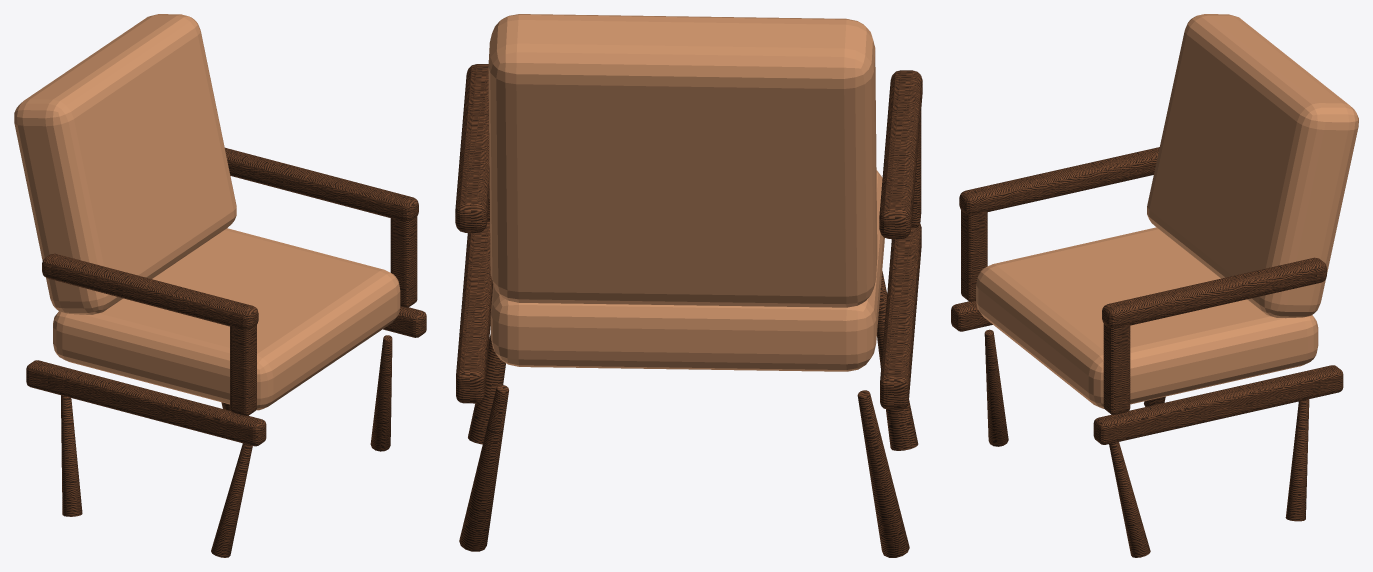
The model's file is interior-prop-armchair.glb.
3 renders of one model, left to right at view 1: azimuth 30°, elevation 25°; view 2: azimuth 150°, elevation 25°; view 3: azimuth 270°, elevation 25°, orthographic. The views are drawn at different scales.
Visible parts, largest first — view 1: armchair-back, armchair-seat, armchair-rail-l, armchair-arm-l, armchair-arm-r, armchair-post-l, armchair-post-r, armchair-leg-2, armchair-leg-0, armchair-leg-1, armchair-rail-r; view 2: armchair-back, armchair-seat, armchair-arm-l, armchair-rail-l, armchair-rail-r, armchair-arm-r, armchair-leg-2, armchair-leg-3, armchair-leg-0, armchair-leg-1, armchair-post-l; view 3: armchair-back, armchair-seat, armchair-rail-r, armchair-arm-r, armchair-arm-l, armchair-post-r, armchair-post-l, armchair-leg-3, armchair-leg-1, armchair-leg-0, armchair-rail-l.
Boxes of the visible parts, x1,y1,x2,y2 form: armchair-back: [14, 14, 236, 314]; armchair-seat: [53, 228, 400, 410]; armchair-rail-l: [26, 360, 266, 446]; armchair-arm-l: [42, 253, 258, 329]; armchair-arm-r: [225, 147, 418, 220]; armchair-post-l: [230, 325, 256, 416]; armchair-post-r: [390, 216, 417, 307]; armchair-leg-2: [61, 395, 82, 516]; armchair-leg-0: [211, 443, 252, 557]; armchair-leg-1: [370, 335, 392, 451]; armchair-rail-r: [383, 306, 426, 337]; armchair-back: [488, 14, 877, 307]; armchair-seat: [490, 170, 884, 371]; armchair-arm-l: [879, 70, 922, 239]; armchair-rail-l: [880, 223, 921, 409]; armchair-rail-r: [456, 222, 493, 403]; armchair-arm-r: [455, 64, 489, 232]; armchair-leg-2: [857, 390, 909, 557]; armchair-leg-3: [459, 385, 508, 551]; armchair-leg-0: [877, 271, 918, 450]; armchair-leg-1: [468, 334, 505, 444]; armchair-post-l: [911, 111, 921, 228]; armchair-back: [1147, 14, 1358, 318]; armchair-seat: [976, 227, 1318, 408]; armchair-rail-r: [1093, 365, 1343, 444]; armchair-arm-r: [1102, 257, 1326, 327]; armchair-arm-l: [959, 147, 1159, 214]; armchair-post-r: [1103, 324, 1130, 414]; armchair-post-l: [961, 210, 987, 301]; armchair-leg-3: [1285, 399, 1309, 521]; armchair-leg-1: [1109, 442, 1150, 557]; armchair-leg-0: [984, 329, 1008, 446]; armchair-rail-l: [951, 301, 992, 331].
Size of the model in its own units: 0.8957 by 0.9513 by 0.8859.
Materials: 2 (1 with a texture image).
